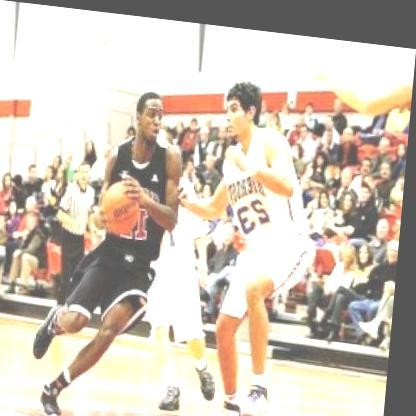basketball: (99, 172, 150, 232)
